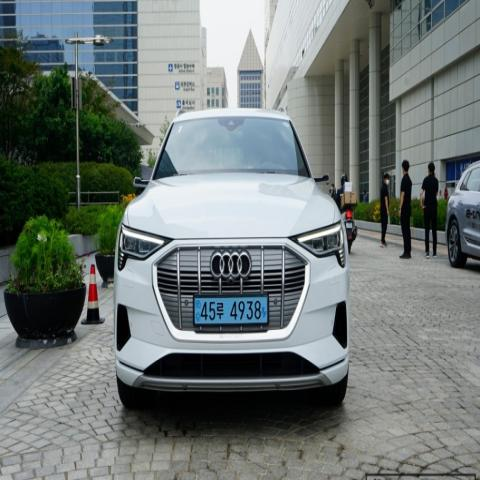LP: (190, 290, 272, 333)
